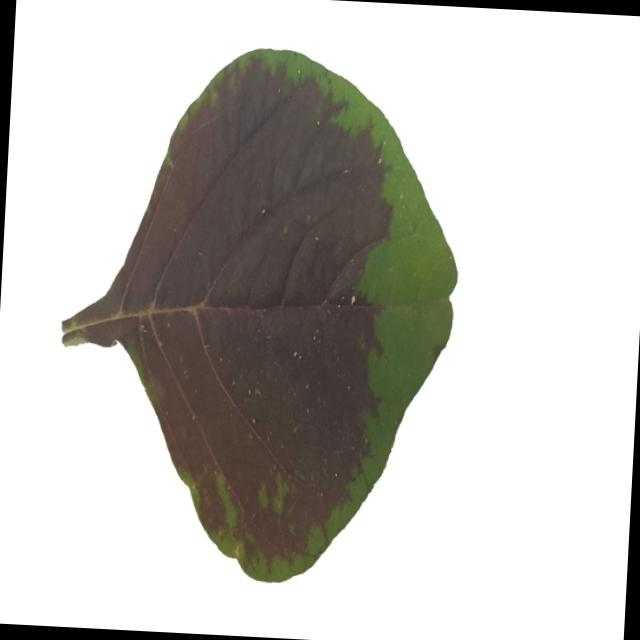Medicinal-Arive Dantu: (49, 39, 468, 592)
